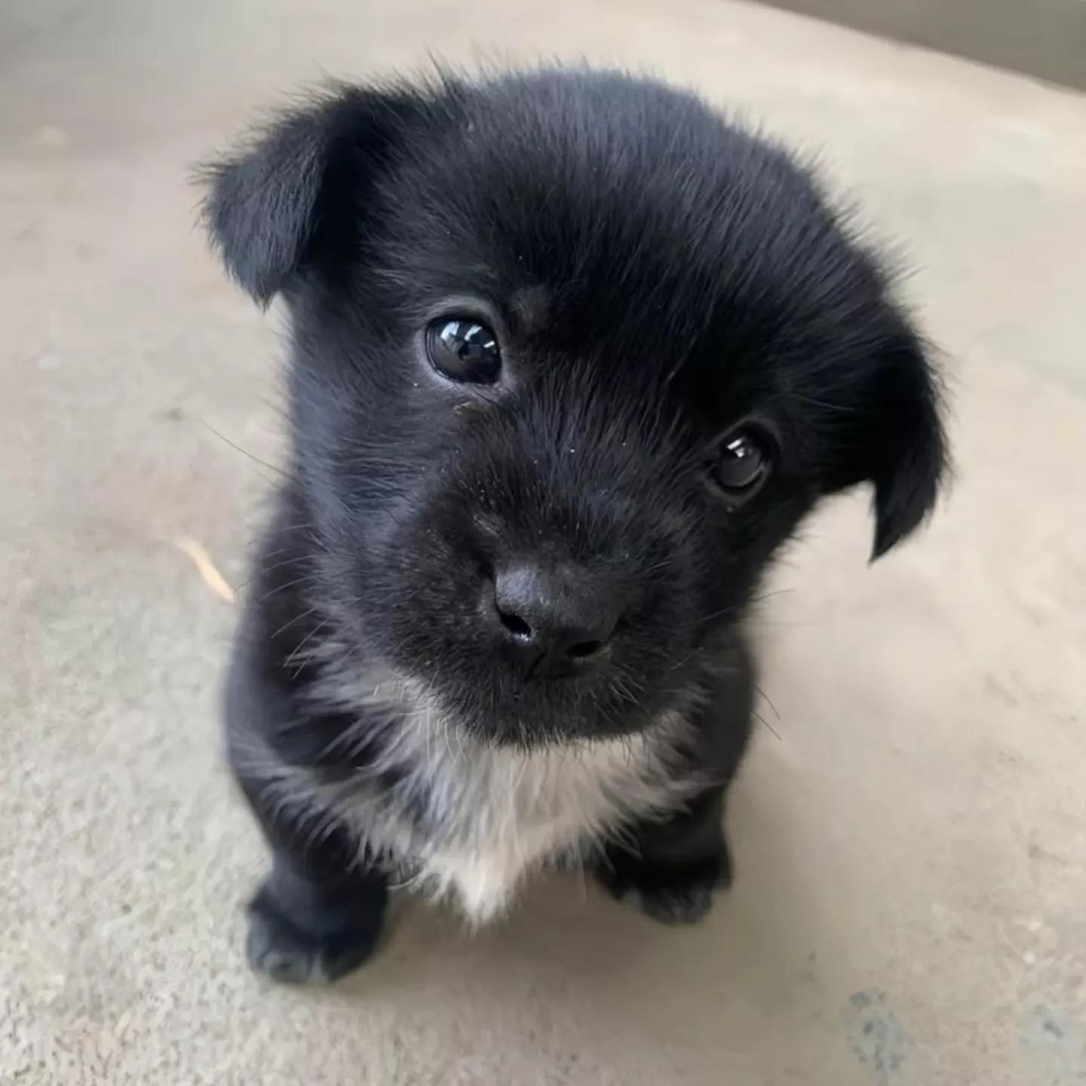puppy-dog: (191, 56, 959, 988)
